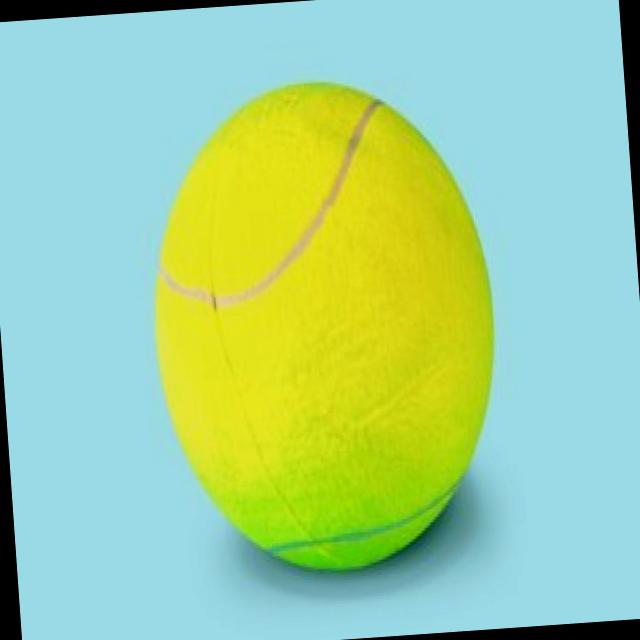Tennis Ball: (155, 85, 497, 573)
